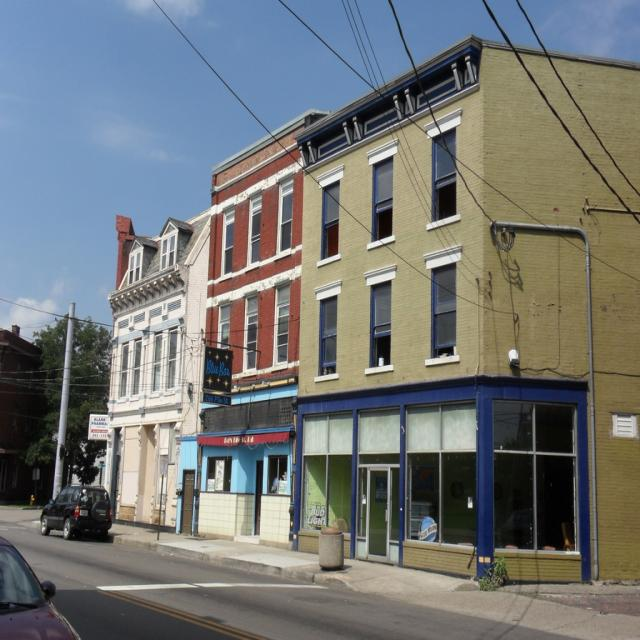car: (40, 486, 116, 537)
